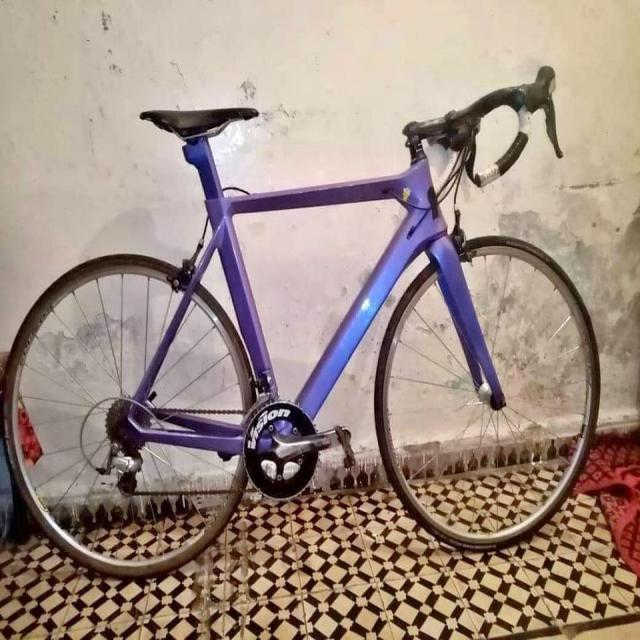Tree: (3, 66, 601, 577)
